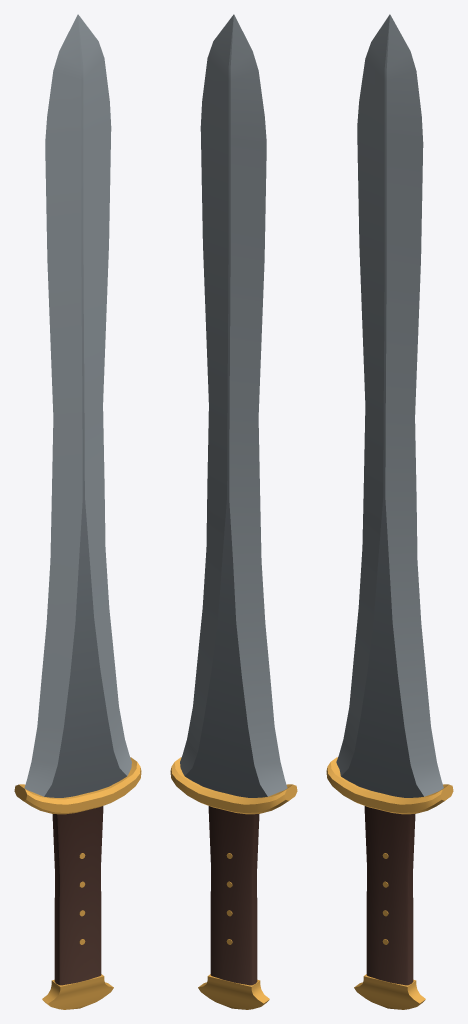
Rendered from SM_Sword19_Xiphos_01.fbx.
3 renders of one model, left to right at view 1: azimuth 30°, elevation 25°; view 2: azimuth 150°, elevation 25°; view 3: azimuth 330°, elevation 25°, orthographic.
Visible parts, largest first — view 1: Cube.391, Cube.393, Cube.392, Cube.394; view 2: Cube.391, Cube.393, Cube.392, Cube.394; view 3: Cube.391, Cube.393, Cube.392, Cube.394.
Boxes of the visible parts, bbox=[...] form: Cube.391: bbox=[24, 14, 131, 797]; Cube.393: bbox=[52, 806, 103, 985]; Cube.392: bbox=[14, 757, 141, 814]; Cube.394: bbox=[42, 974, 113, 1009]; Cube.391: bbox=[180, 14, 287, 797]; Cube.393: bbox=[208, 806, 259, 985]; Cube.392: bbox=[170, 757, 297, 814]; Cube.394: bbox=[198, 974, 269, 1009]; Cube.391: bbox=[336, 14, 443, 797]; Cube.393: bbox=[364, 806, 415, 985]; Cube.392: bbox=[326, 757, 453, 814]; Cube.394: bbox=[354, 974, 425, 1009].
Bounding box in the file's own units: 0.0868 × 0.7078 × 0.0316.
